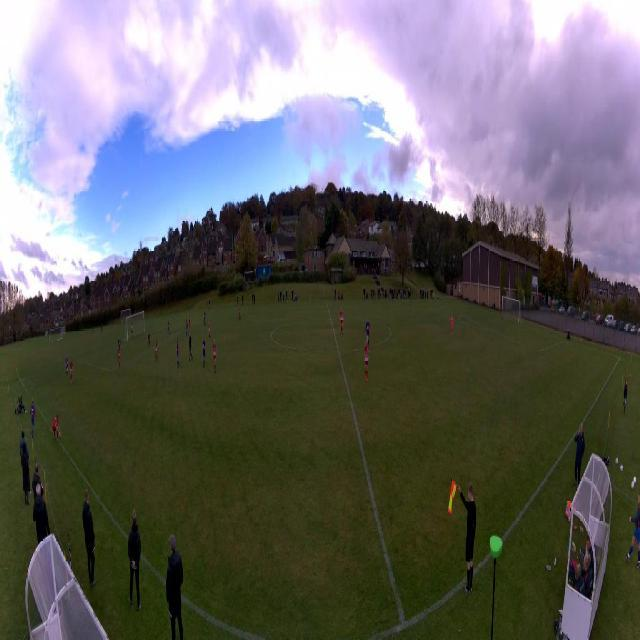ball: (59, 431, 62, 439)
player: (52, 414, 62, 441), (364, 340, 370, 381), (365, 319, 371, 348), (213, 338, 217, 374), (339, 307, 344, 334), (202, 336, 206, 368), (176, 340, 180, 369), (188, 332, 192, 360), (69, 357, 73, 385), (449, 314, 454, 336), (117, 344, 121, 368), (65, 356, 69, 378), (155, 337, 158, 362), (238, 305, 242, 322), (208, 319, 211, 341), (186, 317, 189, 337), (167, 320, 170, 337), (118, 337, 121, 351), (189, 316, 191, 334), (204, 311, 206, 327), (131, 323, 133, 339), (148, 333, 150, 347)
